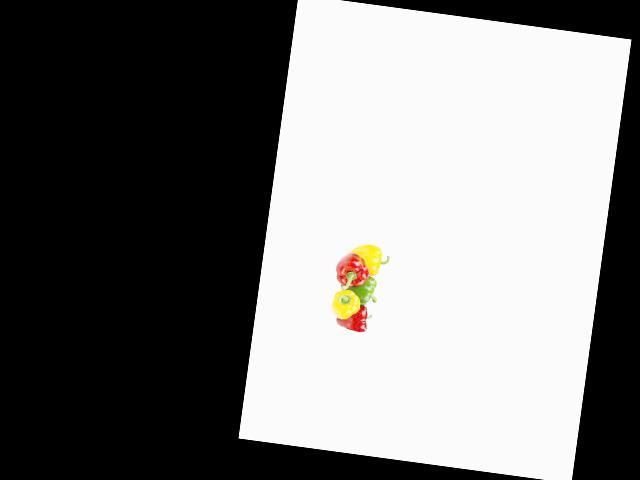bell_pepper: (339, 303, 374, 335)
